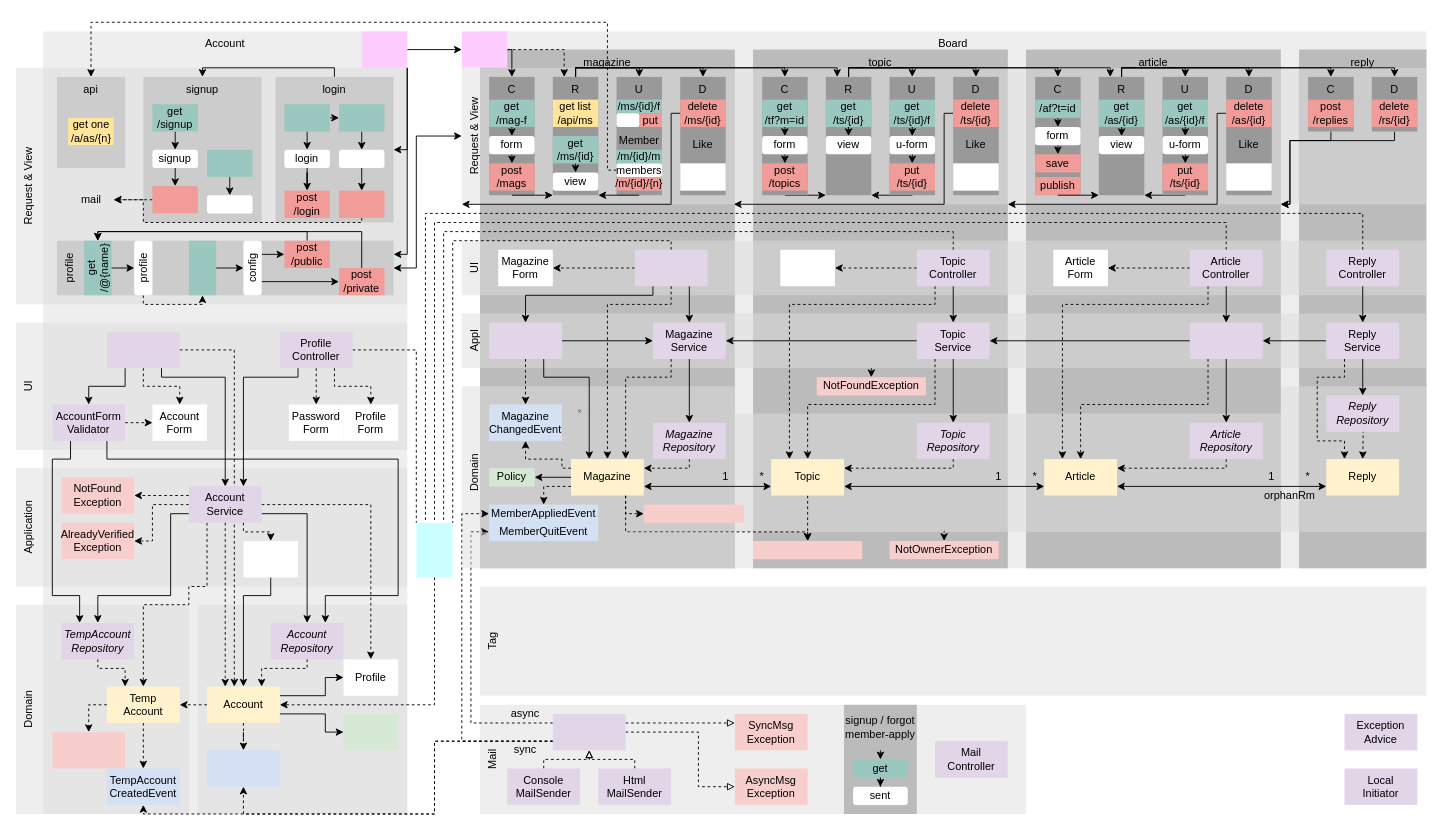
The diagram is 1441 pixels wide and 837 high, and some of its shapes have lost their labels. The shapes that lost their labels are listed below. From the top down, each one's centre as x and y in pixels, then its label:
At point (384, 49): "navbar".
At point (484, 49): "overlay nav".
At point (306, 117): "get /login".
At point (361, 117): "get /forgot".
At point (627, 119): "up-f".
At point (229, 163): "get /verify".
At point (361, 158): "forgot".
At point (174, 199): "post /signup".
At point (229, 204): "welcome".
At point (361, 203): "post /forgot".
At point (202, 267): "get /config".
At point (670, 267): "Magazine Controller".
At point (807, 267): "Topic Form".
At point (142, 349): "Account Controller".
At point (525, 340): "Magazine BestListCache".
At point (1225, 340): "Article Service".
At point (693, 513): "PolicyAuthException".
At point (270, 559): "User Account".
At point (434, 549): "@Current User".
At point (807, 550): "NotDeletableException".
At point (88, 750): "Verification Exception".
At point (370, 731): "Account Role".
At point (588, 731): "Mail Sender".
At point (243, 768): "TempPassword IssuedEvent".
